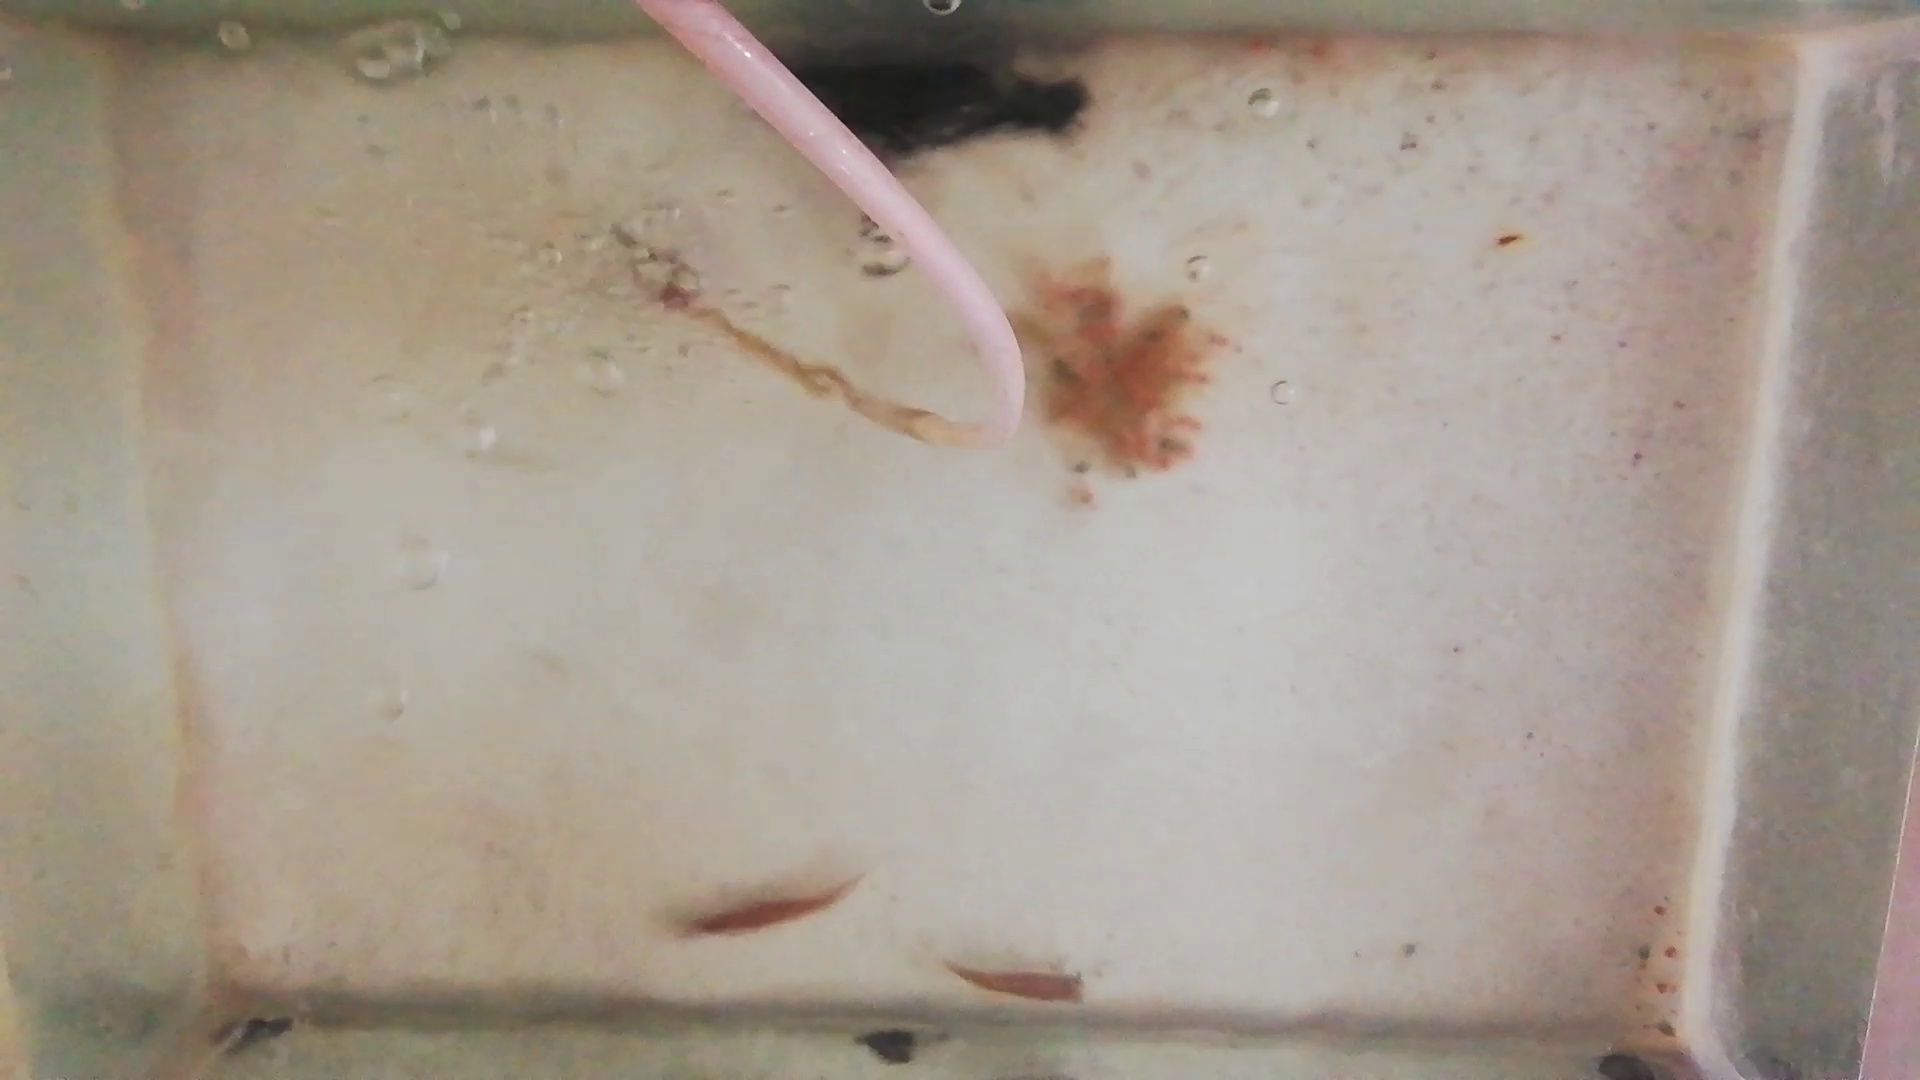fish: (684, 884, 852, 939), (942, 959, 1092, 1004)
